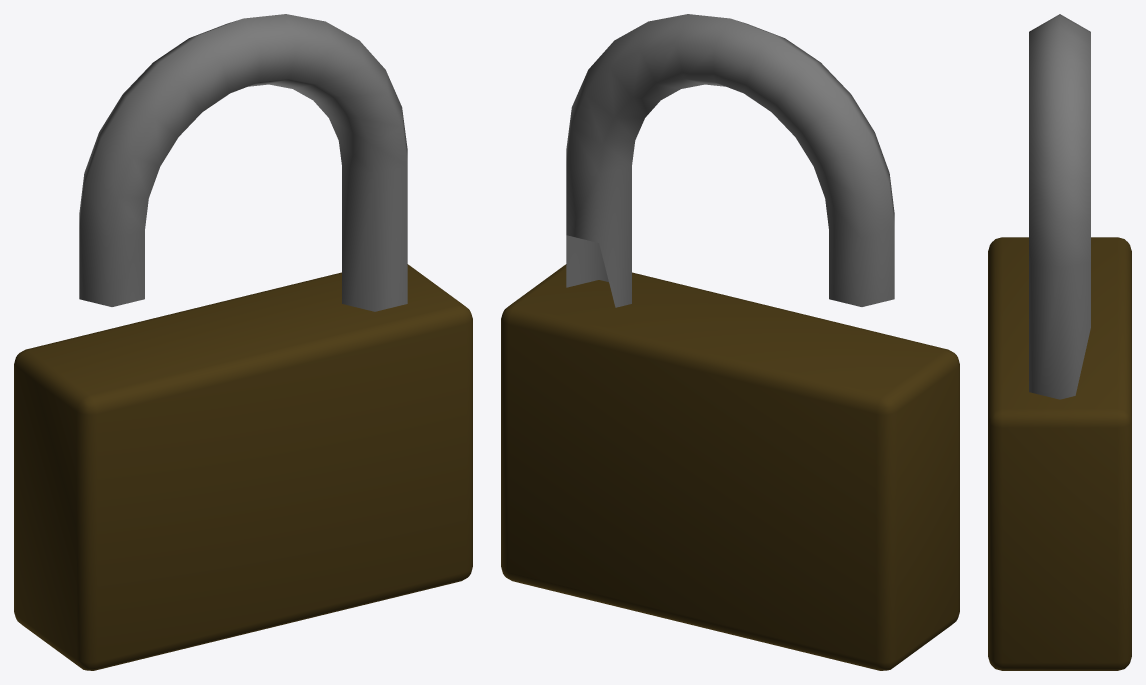
The model's file is padlock.glb.
3 renders of one model, left to right at view 1: azimuth 30°, elevation 25°; view 2: azimuth 150°, elevation 25°; view 3: azimuth 270°, elevation 25°, orthographic. The views are drawn at different scales.
Parts seen in each view (by area): view 1: padlock_bottom, paddlock_top; view 2: padlock_bottom, paddlock_top; view 3: padlock_bottom, paddlock_top.
Boxes of the visible parts, bbox=[...] form: padlock_bottom: bbox=[14, 264, 472, 670]; paddlock_top: bbox=[79, 14, 407, 311]; padlock_bottom: bbox=[501, 264, 959, 670]; paddlock_top: bbox=[566, 14, 894, 307]; padlock_bottom: bbox=[988, 237, 1131, 670]; paddlock_top: bbox=[1029, 14, 1090, 399].
Bounding box in the file's own units: 1.67 × 2.36 × 0.5562.
